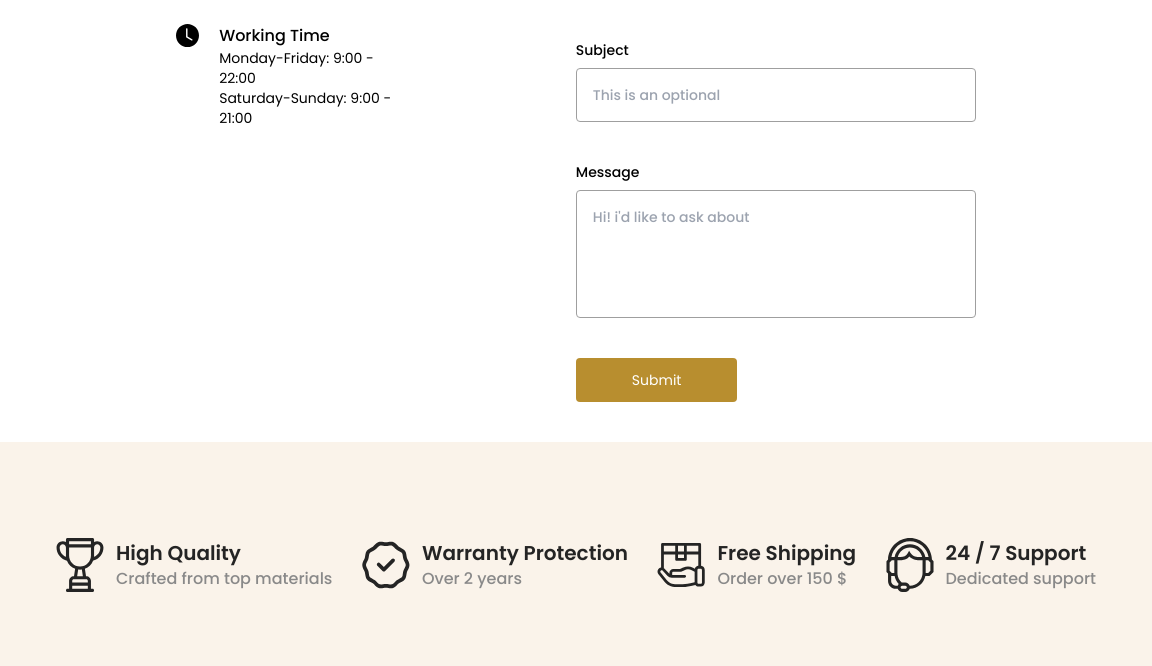
Test: <Contact /> › should display error message when trying to submit message without data
The width and height of the screenshot is (1152, 666).
(page scrolled)
Step 1. Click the button "Submit" → point(657, 380), box top-left (576, 358), bottom-right (737, 402)
(page scrolled)
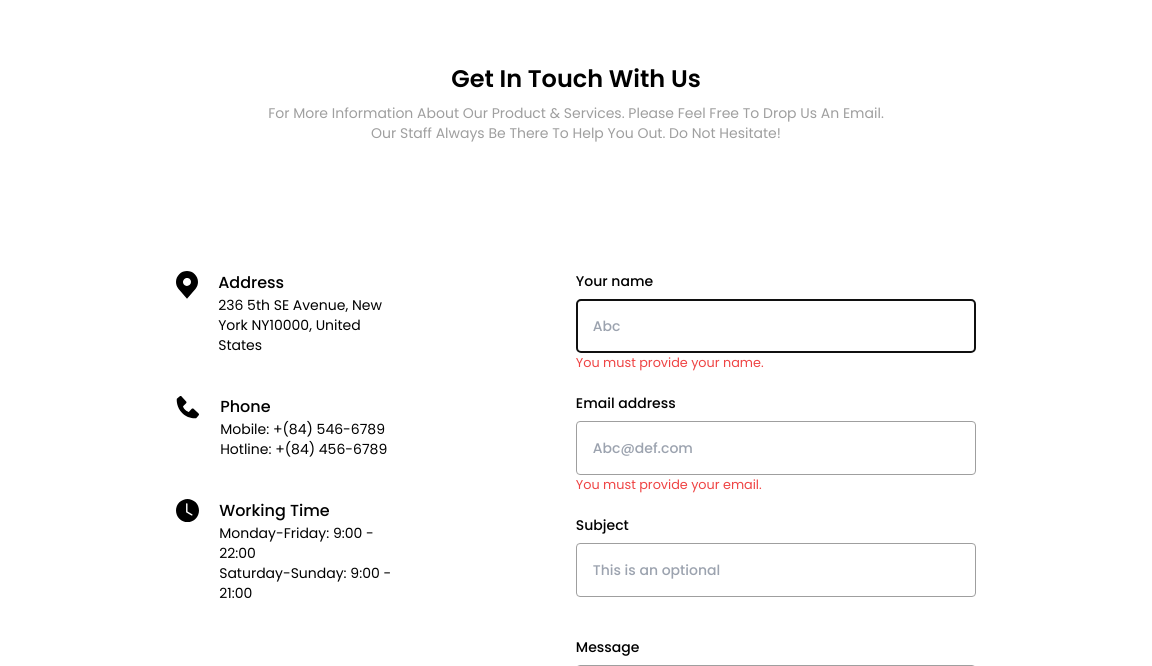
Expected: the text "You must provide your name." is shown, top-left (576, 353), bottom-right (764, 372)
